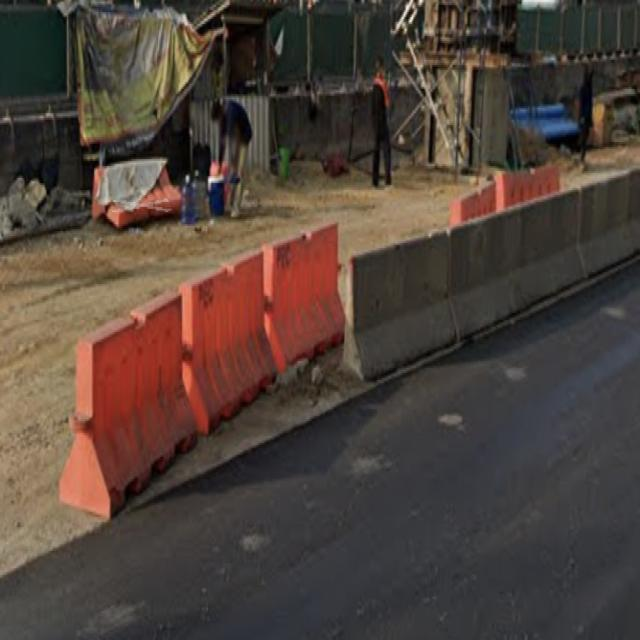fallen_object: (56, 253, 198, 528), (117, 226, 284, 424), (340, 229, 473, 388), (239, 217, 365, 372), (499, 173, 640, 298), (432, 186, 540, 335), (76, 143, 193, 241), (437, 153, 573, 226)
